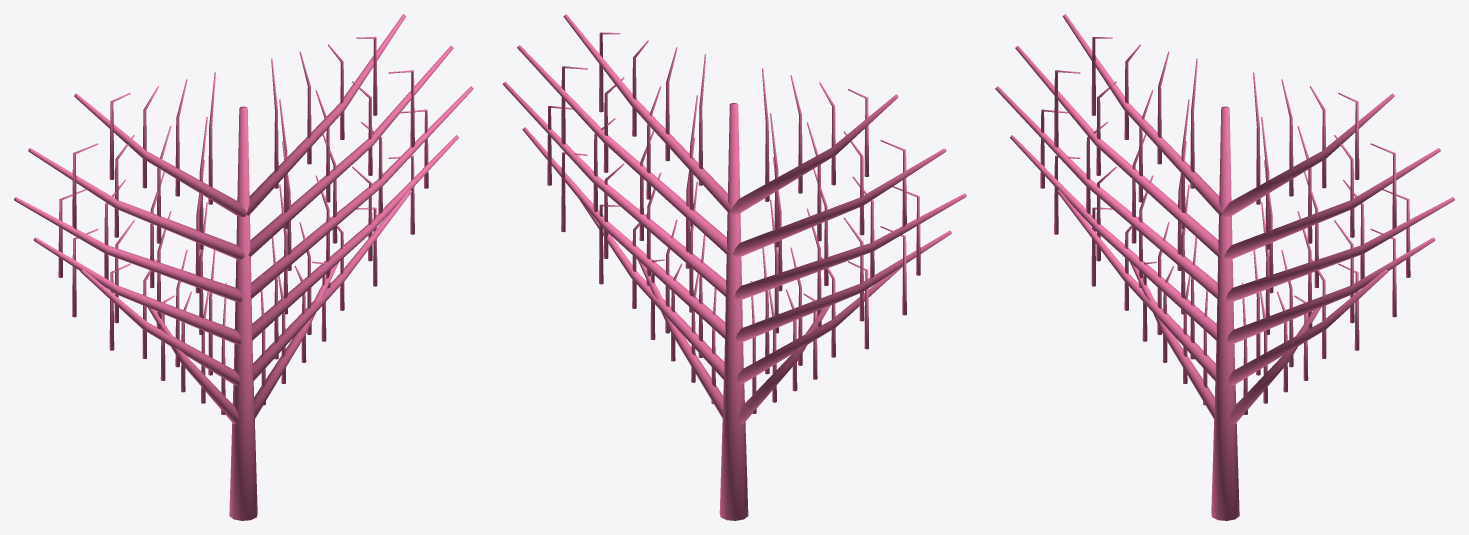
File: sea-fan.glb
3 views of the same model, side by side, from view 1: azimuth 30°, elevation 25°; view 2: azimuth 150°, elevation 25°; view 3: azimuth 330°, elevation 25° (orthographic).
Visible parts, largest first — view 1: sea-fan; view 2: sea-fan; view 3: sea-fan.
Boxes of the visible parts, box(x1,y1,x2,y2) form: sea-fan: box(14, 14, 473, 520); sea-fan: box(502, 14, 966, 520); sea-fan: box(995, 14, 1454, 520).
Bounding box in the file's own units: 2.01 × 1.92 × 0.11.
